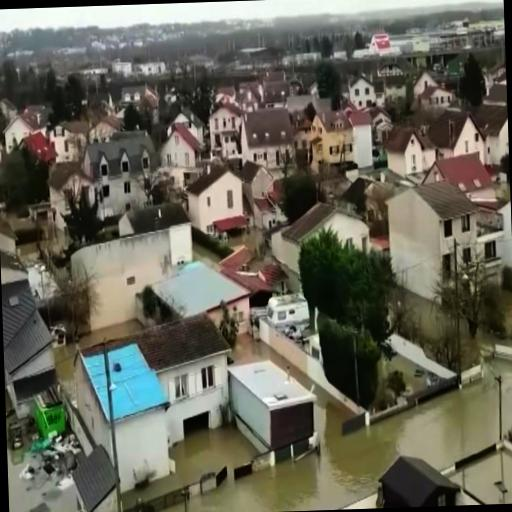flood: (122, 376, 498, 512), (14, 215, 69, 320), (7, 448, 77, 512), (231, 335, 312, 389), (405, 290, 452, 339), (227, 227, 274, 271), (77, 320, 141, 347), (490, 362, 512, 430), (53, 343, 74, 400), (192, 241, 221, 271), (158, 502, 184, 512)
house: (75, 310, 231, 480), (385, 178, 474, 287), (1, 280, 49, 410), (86, 130, 156, 216), (184, 163, 244, 239), (380, 450, 447, 508), (281, 200, 358, 244), (245, 104, 294, 172), (473, 91, 509, 169), (344, 106, 383, 178), (159, 122, 207, 178), (420, 150, 492, 185), (436, 108, 482, 156), (386, 124, 426, 178), (306, 110, 342, 160), (207, 100, 240, 140), (2, 112, 39, 144), (48, 120, 83, 150), (346, 72, 376, 106), (86, 114, 122, 142), (419, 84, 454, 108), (411, 69, 440, 93)
